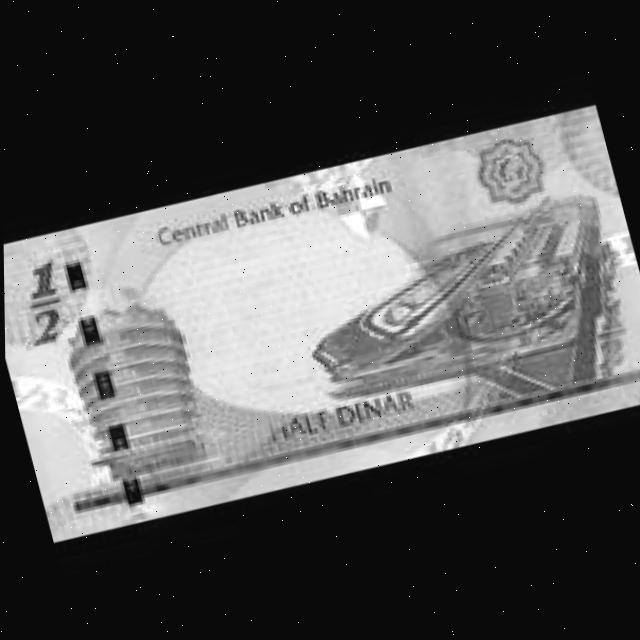banknote: (1, 90, 640, 548)
